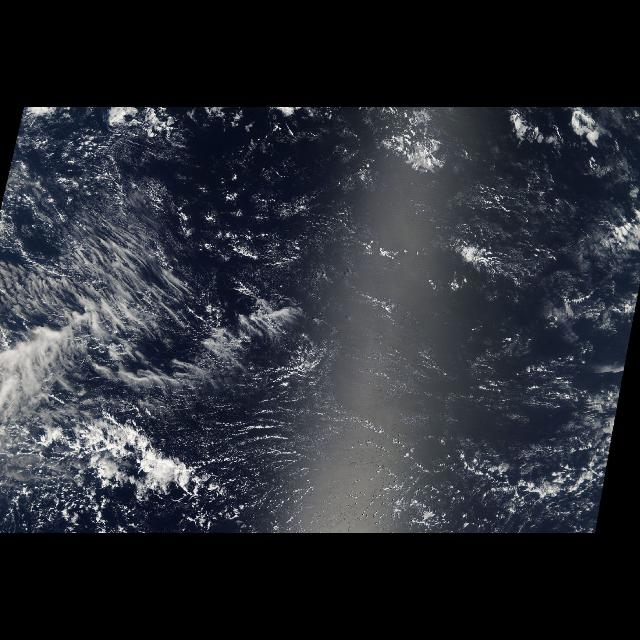Gravel: (198, 382, 322, 500)
Sugar: (175, 305, 407, 525)
